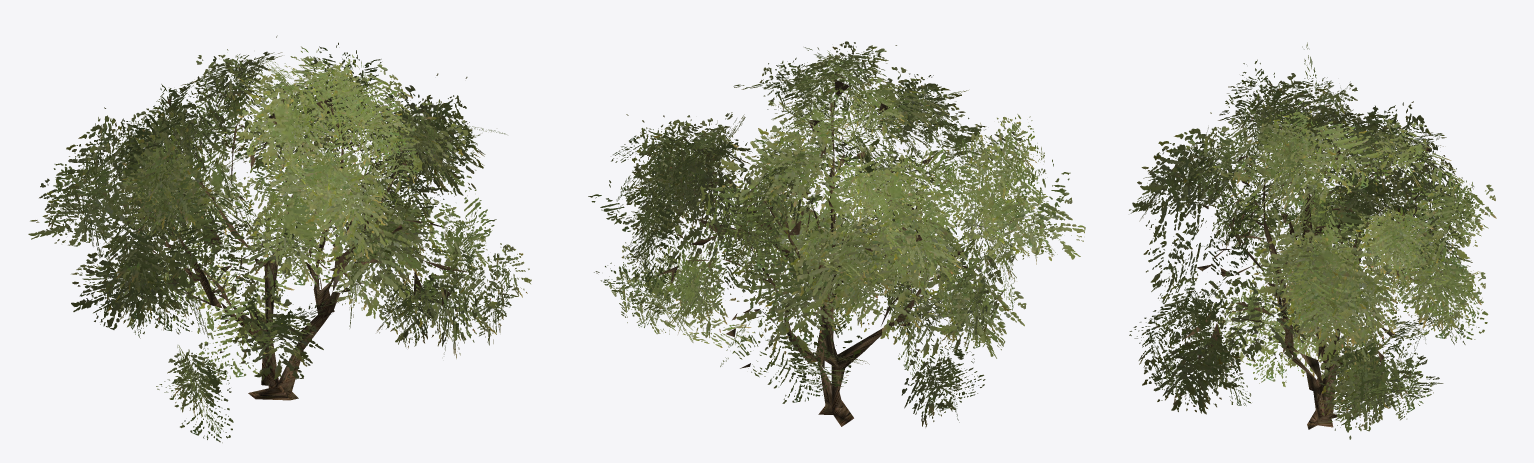
File: arbol_jacaranda_lod1.glb
3 renders of one model, left to right at view 1: azimuth 30°, elevation 25°; view 2: azimuth 150°, elevation 25°; view 3: azimuth 270°, elevation 25°, orthographic. The views are drawn at different scales.
Visible parts, largest first — view 1: jacaranda_tree_LOD0; view 2: jacaranda_tree_LOD0; view 3: jacaranda_tree_LOD0.
Part boxes in pixels (x1,y1,x2,y2): jacaranda_tree_LOD0: (28, 35, 531, 442); jacaranda_tree_LOD0: (588, 41, 1085, 427); jacaranda_tree_LOD0: (1129, 42, 1496, 439).
Bounding box in the file's own units: 17.21 × 13 × 13.22.
Materials: 3 (3 with a texture image).
